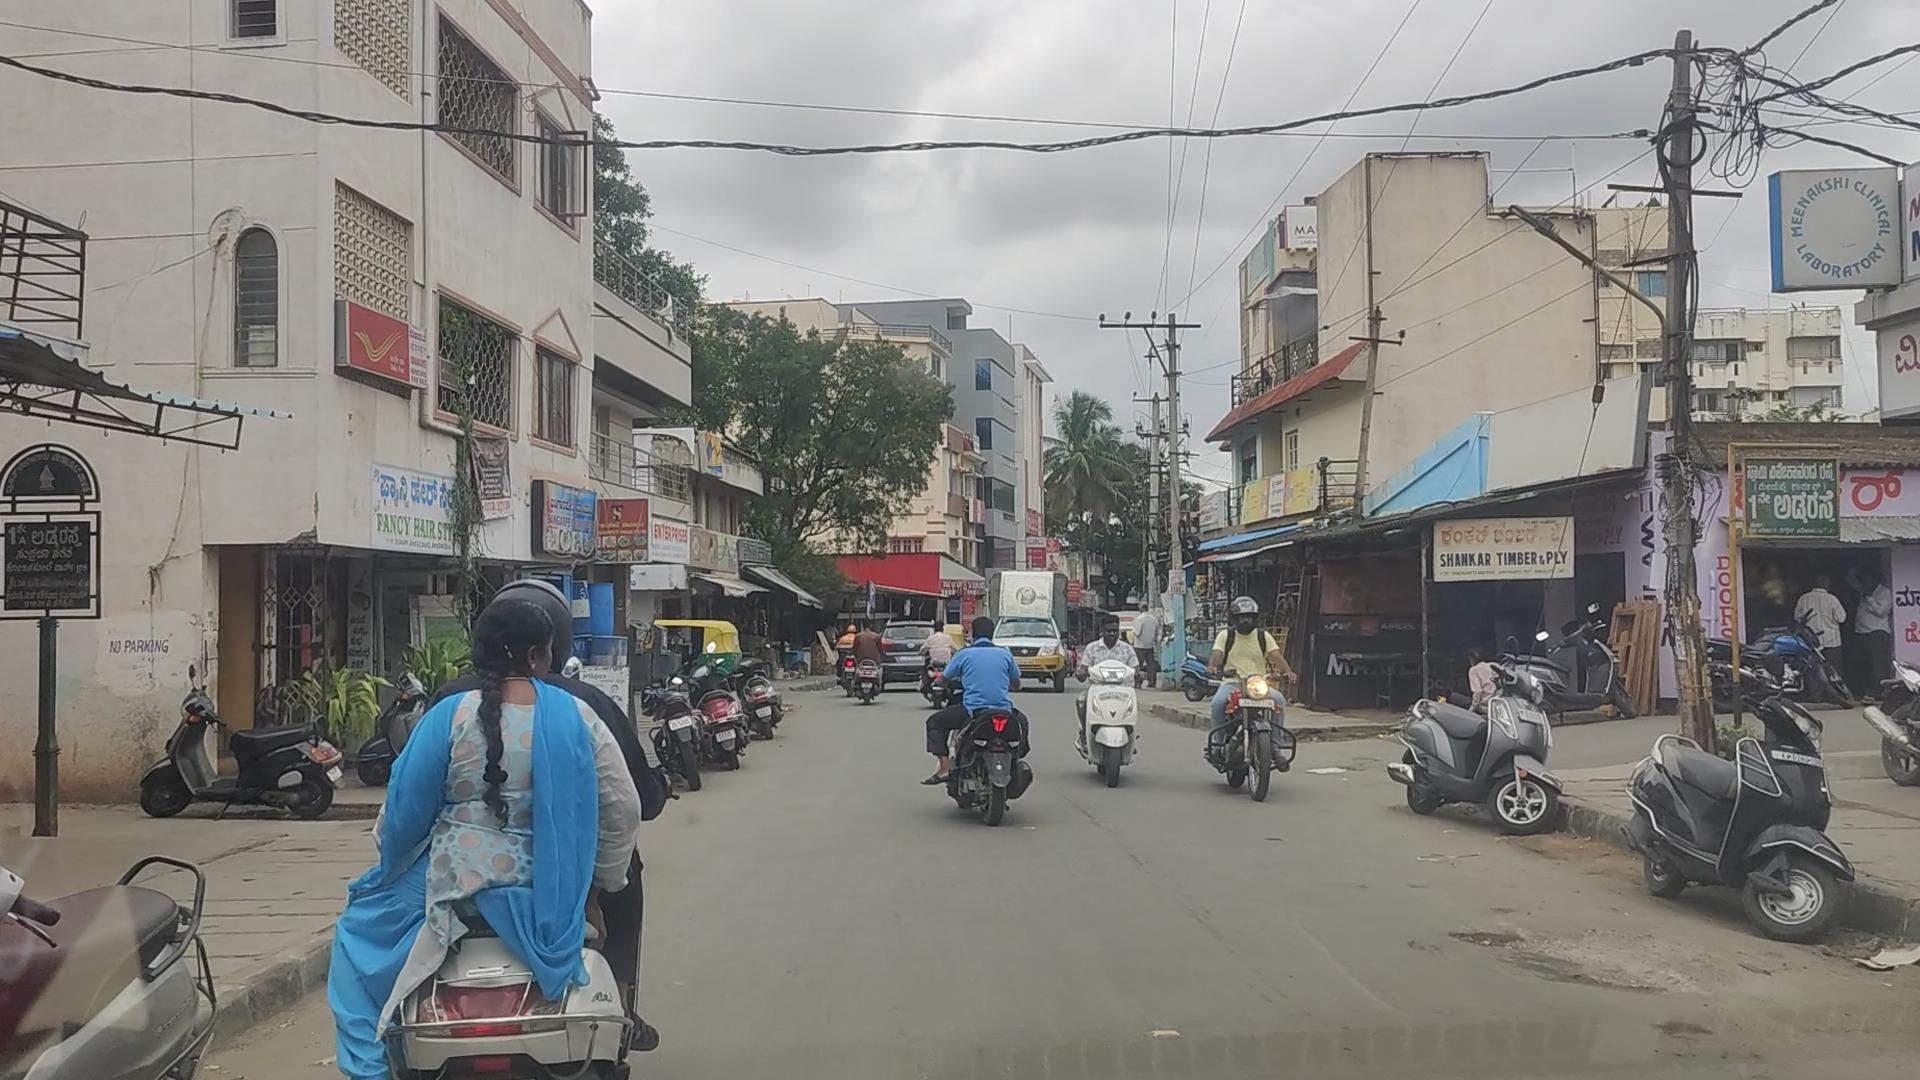LMV: (393, 566, 674, 1080), (936, 609, 1029, 839), (1084, 612, 1150, 783)
RoadDamages: (1461, 901, 1681, 1013)
